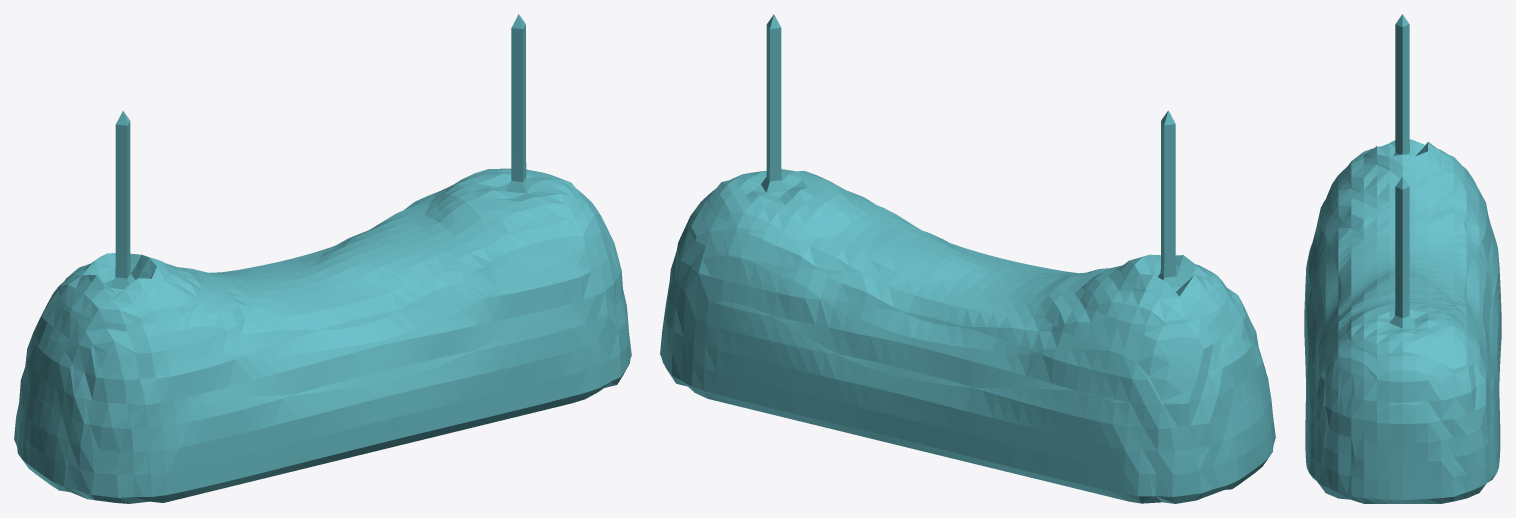
File: cave-c9-0.5.glb
The picture shows the model from 3 angles, left to right: view 1: azimuth 30°, elevation 25°; view 2: azimuth 150°, elevation 25°; view 3: azimuth 270°, elevation 25°; orthographic projection. The views are drawn at different scales.
Parts seen in each view (by area): view 1: geometry_0; view 2: geometry_0; view 3: geometry_0.
Boxes of the visible parts, box(x1,y1,x2,y2) form: geometry_0: box(14, 14, 631, 503); geometry_0: box(660, 14, 1275, 503); geometry_0: box(1304, 14, 1501, 503).
Bounding box in the file's own units: 167 × 97.64 × 59.05.
